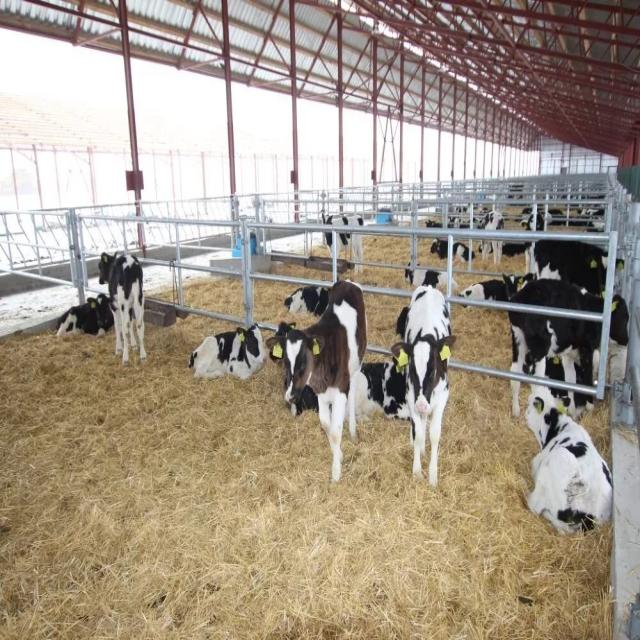cow: (265, 278, 367, 483), (501, 272, 628, 420), (392, 270, 457, 488), (524, 388, 613, 536), (297, 358, 411, 422), (523, 238, 625, 296), (97, 250, 147, 366), (187, 321, 267, 380), (320, 208, 364, 274), (54, 292, 114, 338), (458, 272, 533, 307), (403, 260, 458, 292), (284, 283, 330, 316), (477, 209, 504, 263), (429, 236, 475, 262)
